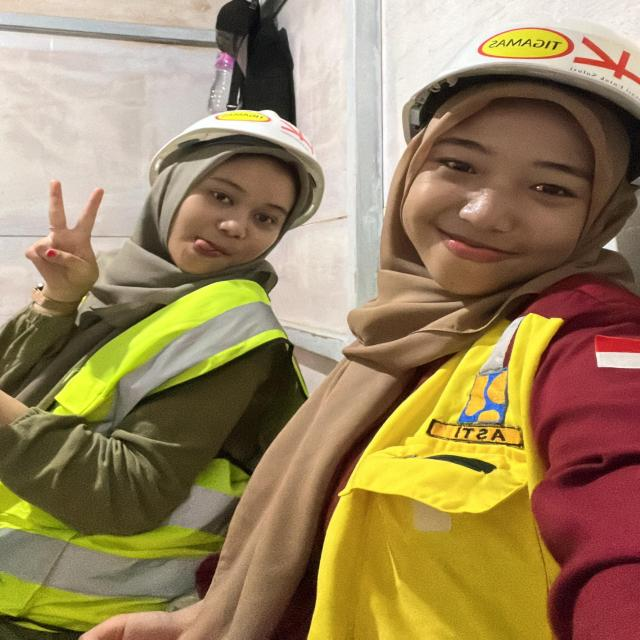safetyhelmet: (405, 17, 640, 312), (143, 92, 332, 292)
